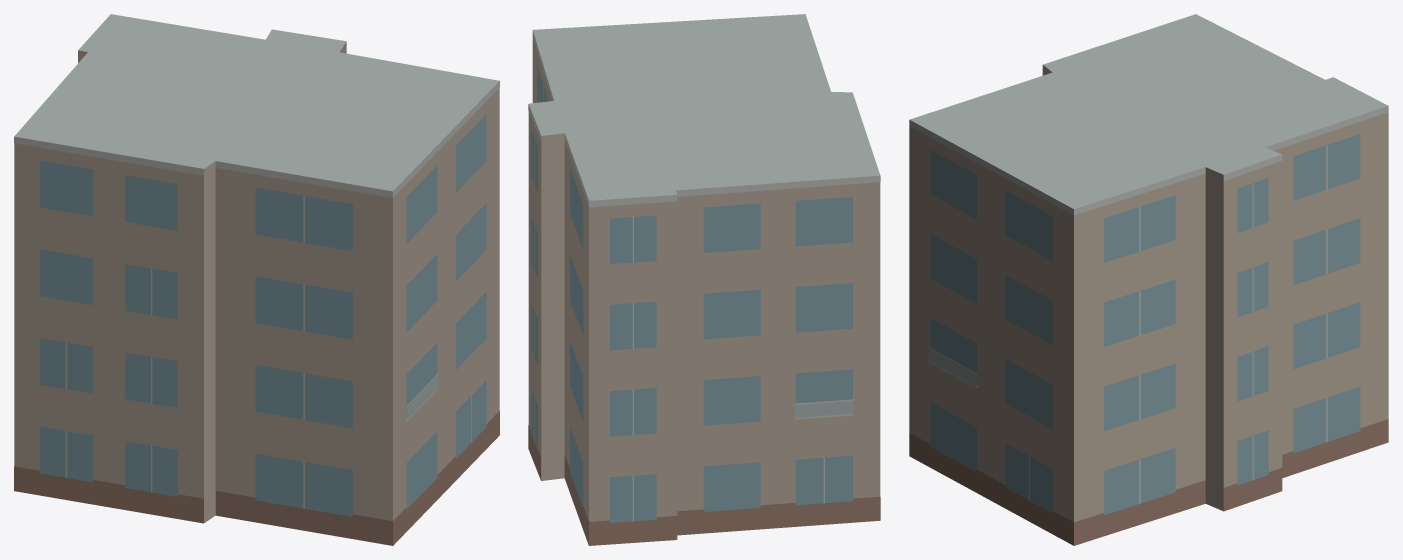
File: survey-upis-32749555.glb
3 renders of one model, left to right at view 1: azimuth 30°, elevation 25°; view 2: azimuth 150°, elevation 25°; view 3: azimuth 270°, elevation 25°, orthographic. The views are drawn at different scales.
Parts seen in each view (by area): view 1: survey-upis-32749555.tmp; view 2: survey-upis-32749555.tmp; view 3: survey-upis-32749555.tmp.
Part boxes in pixels (x1,y1,x2,y2): survey-upis-32749555.tmp: (14, 14, 499, 545); survey-upis-32749555.tmp: (528, 14, 880, 545); survey-upis-32749555.tmp: (909, 14, 1388, 545).
Bounding box in the file's own units: 16.06 × 12.9 × 16.65.
